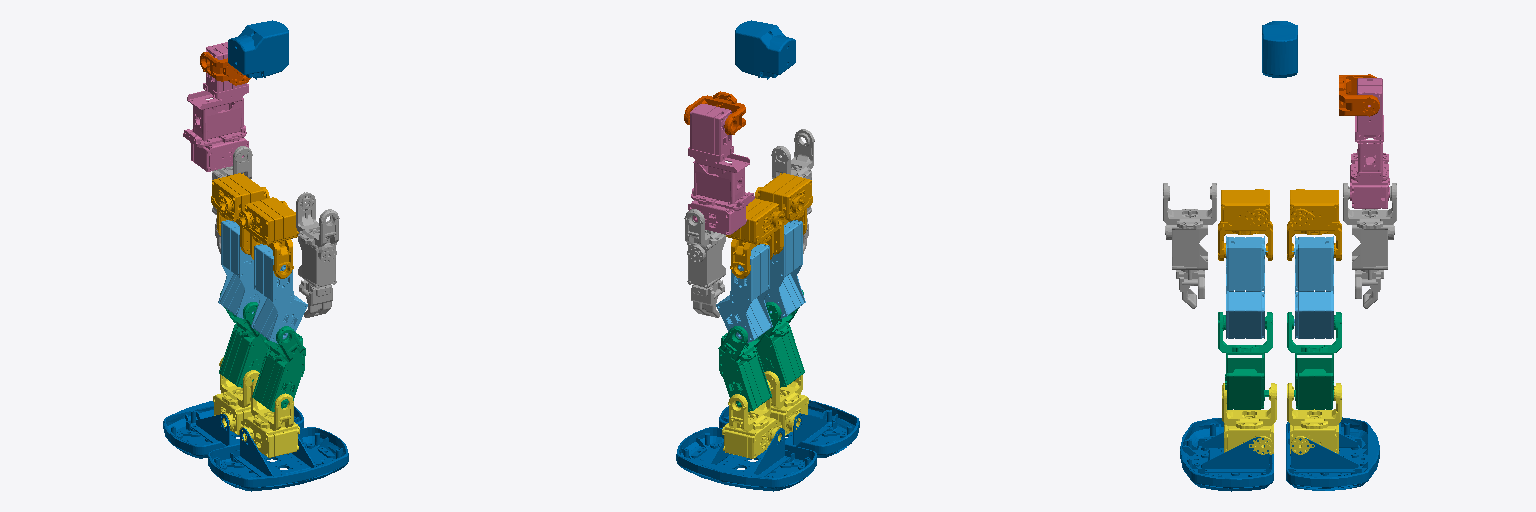
The robot description file, URDF, robot "khr":
<?xml version="1.0"?>
<robot name="khr"
       xmlns:xi="http://www.w3.org/2001/XInclude">
  <link name="HIP_VIRTUAL_LINK">
    <inertial>
      <mass value="1e-07" />
      <origin xyz="0 0 0" rpy="0 0 0"/>
      <inertia ixx="1e-11" ixy="0" ixz="0" iyy="1e-11" iyz="0" izz="1e-11"/>
    </inertial>
  </link>
  <link name="SPINE_VIRTUAL_LINK">
    <inertial>
      <mass value="1e-07" />
      <origin xyz="0 0 0" rpy="0 0 0"/>
      <inertia ixx="1e-11" ixy="0" ixz="0" iyy="1e-11" iyz="0" izz="1e-11"/>
    </inertial>
  </link>
  <link name="TORSO_VIRTUAL_LINK">
    <inertial>
      <mass value="1e-07" />
      <origin xyz="0 0 0" rpy="0 0 0"/>
      <inertia ixx="1e-11" ixy="0" ixz="0" iyy="1e-11" iyz="0" izz="1e-11"/>
    </inertial>
  </link>
  <link name="BODY">
    <visual>
      <origin xyz="0 0 0" rpy="0 -0 0"/>
      <geometry>
        <mesh filename="mesh/BODY_mesh.stl" scale="1 1 1" />
      </geometry>
    </visual>
    <collision>
      <origin xyz="0 0 0" rpy="0 -0 0"/>
      <geometry>
        <mesh filename="mesh/BODY_mesh.stl" scale="1 1 1" />
      </geometry>
    </collision>
    <inertial>
      <mass value="0.3375" />
      <origin xyz="-0.025246 0 0.017693" rpy="0 -0 0"/>
      <inertia ixx="0.000533" ixy="-9.37957e-07" ixz="3.74586e-05" iyy="0.000507" iyz="8.98787e-07" izz="0.000337"/>
    </inertial>
  </link>
  <link name="HEAD_LINK0">
    <visual>
      <origin xyz="0 0 0.0644" rpy="0 -0 0"/>
      <geometry>
        <mesh filename="mesh/HEAD_LINK0_mesh.stl" scale="1 1 1" />
      </geometry>
    </visual>
    <collision>
      <origin xyz="0 0 0.0644" rpy="0 -0 0"/>
      <geometry>
        <mesh filename="mesh/HEAD_LINK0_mesh.stl" scale="1 1 1" />
      </geometry>
    </collision>
    <inertial>
      <mass value="0.0149" />
      <origin xyz="0.002048 0 0.020747" rpy="0 -0 0"/>
      <inertia ixx="1.89498e-06" ixy="1.75751e-08" ixz="-5.79694e-08" iyy="3.27018e-06" iyz="1.69379e-08" izz="2.44034e-06"/>
    </inertial>
  </link>
  <link name="LARM_LINK0">
    <visual>
      <origin xyz="0.0115 0.049 0.0474" rpy="0 -0 0"/>
      <geometry>
        <mesh filename="mesh/LARM_LINK0_mesh.stl" scale="1 1 1" />
      </geometry>
    </visual>
    <collision>
      <origin xyz="0.0115 0.049 0.0474" rpy="0 -0 0"/>
      <geometry>
        <mesh filename="mesh/LARM_LINK0_mesh.stl" scale="1 1 1" />
      </geometry>
    </collision>
    <inertial>
      <mass value="0.0153" />
      <origin xyz="0 0.014576 0" rpy="0 -0 0"/>
      <inertia ixx="1.64238e-06" ixy="-4.39899e-09" ixz="2.13134e-08" iyy="2.26922e-06" iyz="-3.47822e-09" izz="2.75336e-06"/>
    </inertial>
  </link>
  <link name="LARM_LINK1">
    <visual>
      <origin xyz="0.01975 0.0255 0" rpy="0 -0 0"/>
      <geometry>
        <mesh filename="mesh/LARM_LINK1_mesh.stl" scale="1 1 1" />
      </geometry>
    </visual>
    <collision>
      <origin xyz="0.01975 0.0255 0" rpy="0 -0 0"/>
      <geometry>
        <mesh filename="mesh/LARM_LINK1_mesh.stl" scale="1 1 1" />
      </geometry>
    </collision>
    <inertial>
      <mass value="0.1091" />
      <origin xyz="-0.02697 -0.000148 -0.050609" rpy="0 -0 0"/>
      <inertia ixx="8.95637e-05" ixy="1.2006e-08" ixz="-3.45189e-06" iyy="0.000102" iyz="-4.05043e-07" izz="2.50555e-05"/>
    </inertial>
  </link>
  <link name="LARM_LINK2">
    <visual>
      <origin xyz="-0.0153 -0.0197 -0.0875" rpy="0 -0 0"/>
      <geometry>
        <mesh filename="mesh/LARM_LINK2_mesh.stl" scale="1 1 1" />
      </geometry>
    </visual>
    <collision>
      <origin xyz="-0.0153 -0.0197 -0.0875" rpy="0 -0 0"/>
      <geometry>
        <mesh filename="mesh/LARM_LINK2_mesh.stl" scale="1 1 1" />
      </geometry>
    </collision>
    <inertial>
      <mass value="0.0315" />
      <origin xyz="0.000525 0.019115 -0.039067" rpy="0 -0 0"/>
      <inertia ixx="2.0635e-05" ixy="6.63534e-08" ixz="1.858e-07" iyy="1.94974e-05" iyz="-1.80473e-07" izz="3.50615e-06"/>
    </inertial>
  </link>
  <link name="LLEG_LINK0">
    <visual>
      <origin xyz="0.018517 0.017 -0.06265" rpy="0 -0 0"/>
      <geometry>
        <mesh filename="mesh/LLEG_LINK0_mesh.stl" scale="1 1 1" />
      </geometry>
    </visual>
    <collision>
      <origin xyz="0.018517 0.017 -0.06265" rpy="0 -0 0"/>
      <geometry>
        <mesh filename="mesh/LLEG_LINK0_mesh.stl" scale="1 1 1" />
      </geometry>
    </collision>
    <inertial>
      <mass value="0.0699" />
      <origin xyz="-0.021734 0.011506 -0.014091" rpy="0 -0 0"/>
      <inertia ixx="1.6919e-05" ixy="-8.67462e-08" ixz="-1.21724e-08" iyy="1.58948e-05" iyz="-5.7174e-07" izz="9.6286e-06"/>
    </inertial>
  </link>
  <link name="LLEG_LINK1">
    <visual>
      <origin xyz="-0.0192 -0.00825 -0.0385" rpy="0 -0 0"/>
      <geometry>
        <mesh filename="mesh/LLEG_LINK1_mesh.stl" scale="1 1 1" />
      </geometry>
    </visual>
    <collision>
      <origin xyz="-0.0192 -0.00825 -0.0385" rpy="0 -0 0"/>
      <geometry>
        <mesh filename="mesh/LLEG_LINK1_mesh.stl" scale="1 1 1" />
      </geometry>
    </collision>
    <inertial>
      <mass value="0.1031" />
      <origin xyz="0.002871 0.018978 -0.033258" rpy="0 -0 0"/>
      <inertia ixx="5.51675e-05" ixy="-4.33138e-07" ixz="1.60787e-07" iyy="5.51001e-05" iyz="2.79276e-08" izz="1.42107e-05"/>
    </inertial>
  </link>
  <link name="LLEG_LINK2">
    <visual>
      <origin xyz="0 0 -0.065" rpy="0 -0 0"/>
      <geometry>
        <mesh filename="mesh/LLEG_LINK2_mesh.stl" scale="1 1 1" />
      </geometry>
    </visual>
    <collision>
      <origin xyz="0 0 -0.065" rpy="0 -0 0"/>
      <geometry>
        <mesh filename="mesh/LLEG_LINK2_mesh.stl" scale="1 1 1" />
      </geometry>
    </collision>
    <inertial>
      <mass value="0.0694" />
      <origin xyz="0.003613 0.016674 -0.031461" rpy="0 -0 0"/>
      <inertia ixx="3.675e-05" ixy="-1.69837e-07" ixz="-8.70062e-07" iyy="3.37577e-05" iyz="-1.30046e-07" izz="1.29244e-05"/>
    </inertial>
  </link>
  <link name="LLEG_LINK3">
    <visual>
      <origin xyz="0 0 -0.065" rpy="0 -0 0"/>
      <geometry>
        <mesh filename="mesh/LLEG_LINK3_mesh.stl" scale="1 1 1" />
      </geometry>
    </visual>
    <collision>
      <origin xyz="0 0 -0.065" rpy="0 -0 0"/>
      <geometry>
        <mesh filename="mesh/LLEG_LINK3_mesh.stl" scale="1 1 1" />
      </geometry>
    </collision>
    <inertial>
      <mass value="0.0691" />
      <origin xyz="-0.000386 0.016666 -0.024369" rpy="0 -0 0"/>
      <inertia ixx="1.89725e-05" ixy="-5.30464e-08" ixz="-3.88994e-07" iyy="1.73695e-05" iyz="-1.9347e-08" izz="1.22922e-05"/>
    </inertial>
  </link>
  <link name="LLEG_LINK4">
    <visual>
      <origin xyz="0.019683 0.00825 -0.0385" rpy="0 -0 0"/>
      <geometry>
        <mesh filename="mesh/LLEG_LINK4_mesh.stl" scale="1 1 1" />
      </geometry>
    </visual>
    <collision>
      <origin xyz="0.019683 0.00825 -0.0385" rpy="0 -0 0"/>
      <geometry>
        <mesh filename="mesh/LLEG_LINK4_mesh.stl" scale="1 1 1" />
      </geometry>
    </collision>
    <inertial>
      <mass value="0.0419" />
      <origin xyz="-0.020862 0.020902 -0.013459" rpy="0 -0 0"/>
      <inertia ixx="1.31439e-05" ixy="-3.43305e-09" ixz="-2.13264e-07" iyy="2.75629e-05" iyz="3.99808e-07" izz="3.78492e-05"/>
    </inertial>
  </link>
  <link name="RARM_LINK0">
    <visual>
      <origin xyz="0.0115 -0.049 0.0474" rpy="0 -0 0"/>
      <geometry>
        <mesh filename="mesh/RARM_LINK0_mesh.stl" scale="1 1 1" />
      </geometry>
    </visual>
    <collision>
      <origin xyz="0.0115 -0.049 0.0474" rpy="0 -0 0"/>
      <geometry>
        <mesh filename="mesh/RARM_LINK0_mesh.stl" scale="1 1 1" />
      </geometry>
    </collision>
    <inertial>
      <mass value="0.0153" />
      <origin xyz="0 -0.014576 0" rpy="0 -0 0"/>
      <inertia ixx="1.6763e-06" ixy="-1.67661e-08" ixz="-9.95332e-09" iyy="2.26307e-06" iyz="1.99264e-09" izz="2.74554e-06"/>
    </inertial>
  </link>
  <link name="RARM_LINK1">
    <visual>
      <origin xyz="0.01975 -0.0255 0" rpy="0 -0 0"/>
      <geometry>
        <mesh filename="mesh/RARM_LINK1_mesh.stl" scale="1 1 1" />
      </geometry>
    </visual>
    <collision>
      <origin xyz="0.01975 -0.0255 0" rpy="0 -0 0"/>
      <geometry>
        <mesh filename="mesh/RARM_LINK1_mesh.stl" scale="1 1 1" />
      </geometry>
    </collision>
    <inertial>
      <mass value="0.1091" />
      <origin xyz="-0.02697 0.000148 -0.050609" rpy="0 -0 0"/>
      <inertia ixx="8.20245e-05" ixy="1.68637e-07" ixz="-2.81184e-06" iyy="9.30071e-05" iyz="1.00412e-06" izz="2.32264e-05"/>
    </inertial>
  </link>
  <link name="RARM_LINK2">
    <visual>
      <origin xyz="-0.0153 0.0197 -0.0875" rpy="0 -0 0"/>
      <geometry>
        <mesh filename="mesh/RARM_LINK2_mesh.stl" scale="1 1 1" />
      </geometry>
    </visual>
    <collision>
      <origin xyz="-0.0153 0.0197 -0.0875" rpy="0 -0 0"/>
      <geometry>
        <mesh filename="mesh/RARM_LINK2_mesh.stl" scale="1 1 1" />
      </geometry>
    </collision>
    <inertial>
      <mass value="0.0315" />
      <origin xyz="0.000525 -0.019115 -0.039067" rpy="0 -0 0"/>
      <inertia ixx="2.01586e-05" ixy="-1.18985e-07" ixz="7.55844e-08" iyy="1.8365e-05" iyz="5.07189e-07" izz="4.02757e-06"/>
    </inertial>
  </link>
  <link name="RLEG_LINK0">
    <visual>
      <origin xyz="0.018517 -0.017 -0.06265" rpy="0 -0 0"/>
      <geometry>
        <mesh filename="mesh/RLEG_LINK0_mesh.stl" scale="1 1 1" />
      </geometry>
    </visual>
    <collision>
      <origin xyz="0.018517 -0.017 -0.06265" rpy="0 -0 0"/>
      <geometry>
        <mesh filename="mesh/RLEG_LINK0_mesh.stl" scale="1 1 1" />
      </geometry>
    </collision>
    <inertial>
      <mass value="0.0699" />
      <origin xyz="-0.021734 -0.011506 -0.014091" rpy="0 -0 0"/>
      <inertia ixx="1.67706e-05" ixy="3.09063e-07" ixz="-9.06368e-08" iyy="1.59351e-05" iyz="-1.85881e-07" izz="8.90141e-06"/>
    </inertial>
  </link>
  <link name="RLEG_LINK1">
    <visual>
      <origin xyz="-0.0192 0.00825 -0.0385" rpy="0 -0 0"/>
      <geometry>
        <mesh filename="mesh/RLEG_LINK1_mesh.stl" scale="1 1 1" />
      </geometry>
    </visual>
    <collision>
      <origin xyz="-0.0192 0.00825 -0.0385" rpy="0 -0 0"/>
      <geometry>
        <mesh filename="mesh/RLEG_LINK1_mesh.stl" scale="1 1 1" />
      </geometry>
    </collision>
    <inertial>
      <mass value="0.1031" />
      <origin xyz="0.002871 -0.018978 -0.033258" rpy="0 -0 0"/>
      <inertia ixx="5.53682e-05" ixy="1.79727e-07" ixz="1.50432e-07" iyy="5.49684e-05" iyz="-1.26323e-07" izz="1.5723e-05"/>
    </inertial>
  </link>
  <link name="RLEG_LINK2">
    <visual>
      <origin xyz="0 0 -0.065" rpy="0 -0 0"/>
      <geometry>
        <mesh filename="mesh/RLEG_LINK2_mesh.stl" scale="1 1 1" />
      </geometry>
    </visual>
    <collision>
      <origin xyz="0 0 -0.065" rpy="0 -0 0"/>
      <geometry>
        <mesh filename="mesh/RLEG_LINK2_mesh.stl" scale="1 1 1" />
      </geometry>
    </collision>
    <inertial>
      <mass value="0.0694" />
      <origin xyz="0.003613 -0.016674 -0.031461" rpy="0 -0 0"/>
      <inertia ixx="3.88163e-05" ixy="-4.03699e-09" ixz="-8.68336e-07" iyy="3.51562e-05" iyz="-8.44442e-08" izz="1.3848e-05"/>
    </inertial>
  </link>
  <link name="RLEG_LINK3">
    <visual>
      <origin xyz="0 0 -0.065" rpy="0 -0 0"/>
      <geometry>
        <mesh filename="mesh/RLEG_LINK3_mesh.stl" scale="1 1 1" />
      </geometry>
    </visual>
    <collision>
      <origin xyz="0 0 -0.065" rpy="0 -0 0"/>
      <geometry>
        <mesh filename="mesh/RLEG_LINK3_mesh.stl" scale="1 1 1" />
      </geometry>
    </collision>
    <inertial>
      <mass value="0.0691" />
      <origin xyz="-0.000386 -0.016666 -0.024369" rpy="0 -0 0"/>
      <inertia ixx="2.07911e-05" ixy="-1.95431e-07" ixz="9.83503e-08" iyy="1.81828e-05" iyz="8.03039e-08" izz="1.18297e-05"/>
    </inertial>
  </link>
  <link name="RLEG_LINK4">
    <visual>
      <origin xyz="0.019683 -0.00825 -0.0385" rpy="0 -0 0"/>
      <geometry>
        <mesh filename="mesh/RLEG_LINK4_mesh.stl" scale="1 1 1" />
      </geometry>
    </visual>
    <collision>
      <origin xyz="0.019683 -0.00825 -0.0385" rpy="0 -0 0"/>
      <geometry>
        <mesh filename="mesh/RLEG_LINK4_mesh.stl" scale="1 1 1" />
      </geometry>
    </collision>
    <inertial>
      <mass value="0.0419" />
      <origin xyz="-0.020862 -0.020902 -0.013459" rpy="0 -0 0"/>
      <inertia ixx="1.24417e-05" ixy="-6.00499e-07" ixz="1.04282e-07" iyy="3.00021e-05" iyz="-5.79267e-07" izz="3.92743e-05"/>
    </inertial>
  </link>
  <joint name="HIP_VIRTUAL_JOINT" type="fixed">
    <parent link="HIP_VIRTUAL_LINK"/>
    <child link="SPINE_VIRTUAL_LINK"/>
    <origin rpy="0.0 0.0 0.0" xyz="0.0 0.0 0.0"/>
  </joint>
  <joint name="SPINE_VIRTUAL_JOINT" type="fixed">
    <parent link="HIP_VIRTUAL_LINK"/>
    <child link="BODY"/>
      <origin rpy="0.0 0.0 0.0" xyz="0.0 0.0 0.06265"/>
  </joint>
  <joint name="TORSO_VIRTUAL_JOINT" type="fixed">
    <parent link="BODY"/>
    <child link="TORSO_VIRTUAL_LINK"/>
      <origin rpy="0.0 0.0 0.0" xyz="0.0 0.0 0.0474"/>
  </joint>
  <joint name="HEAD_JOINT0" type="fixed">
    <parent link="TORSO_VIRTUAL_LINK"/>
    <child  link="HEAD_LINK0"/>
    <origin xyz="0 0 0.0170" rpy="0 -0 0 "/>
    <axis   xyz="0 0 1"/>
    <limit lower="-1.5708" upper="1.5708" effort="0.005" velocity="1.0" />
    <dynamics damping="0.2" friction="0" />
  </joint>
  <joint name="LARM_JOINT0" type="revolute">
    <parent link="TORSO_VIRTUAL_LINK"/>
    <child  link="LARM_LINK0"/>
    <origin xyz="0.0115 0.049 0.0" rpy="0 -0 0 "/>
    <axis   xyz="0 1 0"/>
    <limit lower="-3.1416" upper="0.5236" effort="0.005" velocity="1.0" />
    <dynamics damping="0.2" friction="0" />
  </joint>
  <joint name="LARM_JOINT1" type="revolute">
    <parent link="LARM_LINK0"/>
    <child  link="LARM_LINK1"/>
    <origin xyz="0.01975 0.0255 0" rpy="0 -0 0 "/>
    <axis   xyz="1 0 0"/>
    <limit lower="-0.5236" upper="3.1416" effort="0.005" velocity="1.0" />
    <dynamics damping="0.2" friction="0" />
  </joint>
  <joint name="LARM_JOINT2" type="revolute">
    <parent link="LARM_LINK1"/>
    <child  link="LARM_LINK2"/>
    <origin xyz="-0.0153 -0.0197 -0.0875" rpy="0 -0 0 "/>
    <axis   xyz="0 1 0"/>
    <limit lower="-2.0944" upper="0.0" effort="0.005" velocity="1.0" />
    <dynamics damping="0.2" friction="0" />
  </joint>
  <joint name="LLEG_JOINT0" type="revolute">
    <parent link="HIP_VIRTUAL_LINK"/>
    <child  link="LLEG_LINK0"/>
    <origin xyz="0.018517 0.017 0.0" rpy="0 -0 0 "/>
    <axis   xyz="1 0 0"/>
    <limit lower="-0.2618" upper="0.5236" effort="0.005" velocity="1.0" />
    <dynamics damping="0.2" friction="0" />
  </joint>
  <joint name="LLEG_JOINT1" type="revolute">
    <parent link="LLEG_LINK0"/>
    <child  link="LLEG_LINK1"/>
    <origin xyz="-0.0192 -0.00825 -0.0385" rpy="0 -0 0 "/>
    <axis   xyz="0 1 0"/>
    <limit lower="-1.5708" upper="1.5708" effort="0.005" velocity="1.0" />
    <dynamics damping="0.2" friction="0" />
  </joint>
  <joint name="LLEG_JOINT2" type="revolute">
    <parent link="LLEG_LINK1"/>
    <child  link="LLEG_LINK2"/>
    <origin xyz="0 0 -0.065" rpy="0 -0 0 "/>
    <axis   xyz="0 1 0"/>
    <limit lower="0.0" upper="2.6180" effort="0.005" velocity="1.0" />
    <dynamics damping="0.2" friction="0" />
  </joint>
  <joint name="LLEG_JOINT3" type="revolute">
    <parent link="LLEG_LINK2"/>
    <child  link="LLEG_LINK3"/>
    <origin xyz="0 0 -0.065" rpy="0 -0 0 "/>
    <axis   xyz="0 1 0"/>
    <limit lower="0.0" upper="1.5708" effort="0.005" velocity="1.0" />
    <dynamics damping="0.2" friction="0" />
  </joint>
  <joint name="LLEG_JOINT4" type="revolute">
    <parent link="LLEG_LINK3"/>
    <child  link="LLEG_LINK4"/>
    <origin xyz="0.019683 0.00825 -0.0385" rpy="0 -0 0 "/>
    <axis   xyz="1 0 0"/>
    <limit lower="-0.5236" upper="0.0" effort="0.005" velocity="1.0" />
    <dynamics damping="0.2" friction="0" />
  </joint>
  <joint name="RARM_JOINT0" type="revolute">
    <parent link="TORSO_VIRTUAL_LINK"/>
    <child  link="RARM_LINK0"/>
    <origin xyz="0.0115 -0.049 0.0" rpy="0 -0 0 "/>
    <axis   xyz="0 1 0"/>
    <limit lower="-3.1416" upper="0.5236" effort="0.005" velocity="1.0" />
    <dynamics damping="0.2" friction="0" />
  </joint>
  <joint name="RARM_JOINT1" type="revolute">
    <parent link="RARM_LINK0"/>
    <child  link="RARM_LINK1"/>
    <origin xyz="0.01975 -0.0255 0" rpy="0 -0 0 "/>
    <axis   xyz="1 0 0"/>
    <limit lower="-3.1416" upper="0.5236" effort="0.005" velocity="1.0" />
    <dynamics damping="0.2" friction="0" />
  </joint>
  <joint name="RARM_JOINT2" type="revolute">
    <parent link="RARM_LINK1"/>
    <child  link="RARM_LINK2"/>
    <origin xyz="-0.0153 0.0197 -0.0875" rpy="0 -0 0 "/>
    <axis   xyz="0 1 0"/>
    <limit lower="-2.0944" upper="0.0" effort="0.005" velocity="1.0" />
    <dynamics damping="0.2" friction="0" />
  </joint>
  <joint name="RLEG_JOINT0" type="revolute">
    <parent link="HIP_VIRTUAL_LINK"/>
    <child  link="RLEG_LINK0"/>
    <origin xyz="0.018517 -0.017 0.0" rpy="0 -0 0 "/>
    <axis   xyz="1 0 0"/>
    <limit lower="-0.5236" upper="0.2518" effort="0.005" velocity="1.0" />
    <dynamics damping="0.2" friction="0" />
  </joint>
  <joint name="RLEG_JOINT1" type="revolute">
    <parent link="RLEG_LINK0"/>
    <child  link="RLEG_LINK1"/>
    <origin xyz="-0.0192 0.00825 -0.0385" rpy="0 -0 0 "/>
    <axis   xyz="0 1 0"/>
    <limit lower="-1.5708" upper="1.5708" effort="0.005" velocity="1.0" />
    <dynamics damping="0.2" friction="0" />
  </joint>
  <joint name="RLEG_JOINT2" type="revolute">
    <parent link="RLEG_LINK1"/>
    <child  link="RLEG_LINK2"/>
    <origin xyz="0 0 -0.065" rpy="0 -0 0 "/>
    <axis   xyz="0 1 0"/>
    <limit lower="0.0" upper="2.6108" effort="0.005" velocity="1.0" />
    <dynamics damping="0.2" friction="0" />
  </joint>
  <joint name="RLEG_JOINT3" type="revolute">
    <parent link="RLEG_LINK2"/>
    <child  link="RLEG_LINK3"/>
    <origin xyz="0 0 -0.065" rpy="0 -0 0 "/>
    <axis   xyz="0 1 0"/>
    <limit lower="0.0" upper="1.5708" effort="0.005" velocity="1.0" />
    <dynamics damping="0.2" friction="0" />
  </joint>
  <joint name="RLEG_JOINT4" type="revolute">
    <parent link="RLEG_LINK3"/>
    <child  link="RLEG_LINK4"/>
    <origin xyz="0.019683 -0.00825 -0.0385" rpy="0 -0 0 "/>
    <axis   xyz="1 0 0"/>
    <limit lower="0.0" upper="0.5236" effort="0.005" velocity="1.0" />
    <dynamics damping="0.2" friction="0" />
  </joint>

  <!-- Virtual Foot Joint -->
  <joint name="LHAND_VIRTUAL_JOINT" type="fixed">
    <parent link="LARM_LINK2"/>
    <child link="LHAND_VIRTUAL_LINK"/>
    <origin rpy="0.0 0.0 0.0" xyz="0.0 0.02 -0.08"/>
  </joint>
  <joint name="RHAND_VIRTUAL_JOINT" type="fixed">
    <parent link="RARM_LINK2"/>
    <child link="RHAND_VIRTUAL_LINK"/>
    <origin rpy="0.0 0.0 0.0" xyz="0.0 -0.02 -0.08"/>
  </joint>
  <joint name="LARM_VIRTUAL_JOINT1" type="fixed">
    <parent link="LARM_LINK1"/>
    <child link="LARM_VIRTUAL_LINK1"/>
    <origin rpy="0.0 0.0 0.0" xyz="-0.02 0.0 0.0"/>
  </joint>
  <joint name="RARM_VIRTUAL_JOINT1" type="fixed">
    <parent link="RARM_LINK1"/>
    <child link="RARM_VIRTUAL_LINK1"/>
    <origin rpy="0.0 0.0 0.0" xyz="-0.02 0.0 0.0"/>
  </joint>
  <joint name="LARM_VIRTUAL_JOINT2" type="fixed">
    <parent link="LARM_LINK2"/>
    <child link="LARM_VIRTUAL_LINK2"/>
    <origin rpy="0.0 0.0 0.0" xyz="0.0 0.02 0.0"/>
  </joint>
  <joint name="RARM_VIRTUAL_JOINT2" type="fixed">
    <parent link="RARM_LINK2"/>
    <child link="RARM_VIRTUAL_LINK2"/>
    <origin rpy="0.0 0.0 0.0" xyz="0.0 -0.02 0.0"/>
  </joint>
  <joint name="LLEG_VIRTUAL_JOINT1" type="fixed">
    <parent link="LLEG_LINK1"/>
    <child link="LLEG_VIRTUAL_LINK1"/>
    <origin rpy="0.0 0.0 0.0" xyz="0.0 0.02 0.0"/>
  </joint>
  <joint name="RLEG_VIRTUAL_JOINT1" type="fixed">
    <parent link="RLEG_LINK1"/>
    <child link="RLEG_VIRTUAL_LINK1"/>
    <origin rpy="0.0 0.0 0.0" xyz="0.0 -0.02 0.0"/>
  </joint>
  <joint name="LLEG_VIRTUAL_JOINT2" type="fixed">
    <parent link="LLEG_LINK2"/>
    <child link="LLEG_VIRTUAL_LINK2"/>
    <origin rpy="0.0 0.0 0.0" xyz="0.0 0.02 0.0"/>
  </joint>
  <joint name="RLEG_VIRTUAL_JOINT2" type="fixed">
    <parent link="RLEG_LINK2"/>
    <child link="RLEG_VIRTUAL_LINK2"/>
    <origin rpy="0.0 0.0 0.0" xyz="0.0 -0.02 0.0"/>
  </joint>
  <joint name="LLEG_VIRTUAL_JOINT3" type="fixed">
    <parent link="LLEG_LINK3"/>
    <child link="LLEG_VIRTUAL_LINK3"/>
    <origin rpy="0.0 0.0 0.0" xyz="0.0 0.02 0.0"/>
  </joint>
  <joint name="RLEG_VIRTUAL_JOINT3" type="fixed">
    <parent link="RLEG_LINK3"/>
    <child link="RLEG_VIRTUAL_LINK3"/>
    <origin rpy="0.0 0.0 0.0" xyz="0.0 -0.02 0.0"/>
  </joint>

  <!-- Virtual Foot Link for retargeting motion -->
  <link name="LHAND_VIRTUAL_LINK">
    <inertial>
      <mass value="1e-07" />
      <origin xyz="0 0 0" rpy="0 0 0"/>
      <inertia ixx="1e-11" ixy="0" ixz="0" iyy="1e-11" iyz="0" izz="1e-11"/>
    </inertial>
  </link>
  <link name="RHAND_VIRTUAL_LINK">
    <inertial>
      <mass value="1e-07" />
      <origin xyz="0 0 0" rpy="0 0 0"/>
      <inertia ixx="1e-11" ixy="0" ixz="0" iyy="1e-11" iyz="0" izz="1e-11"/>
    </inertial>
  </link>
  <link name="LARM_VIRTUAL_LINK1">
    <inertial>
      <mass value="1e-07" />
      <origin xyz="0 0 0" rpy="0 0 0"/>
      <inertia ixx="1e-11" ixy="0" ixz="0" iyy="1e-11" iyz="0" izz="1e-11"/>
    </inertial>
  </link>
  <link name="RARM_VIRTUAL_LINK1">
    <inertial>
      <mass value="1e-07" />
      <origin xyz="0 0 0" rpy="0 0 0"/>
      <inertia ixx="1e-11" ixy="0" ixz="0" iyy="1e-11" iyz="0" izz="1e-11"/>
    </inertial>
  </link>
  <link name="LARM_VIRTUAL_LINK2">
    <inertial>
      <mass value="1e-07" />
      <origin xyz="0 0 0" rpy="0 0 0"/>
      <inertia ixx="1e-11" ixy="0" ixz="0" iyy="1e-11" iyz="0" izz="1e-11"/>
    </inertial>
  </link>
  <link name="RARM_VIRTUAL_LINK2">
    <inertial>
      <mass value="1e-07" />
      <origin xyz="0 0 0" rpy="0 0 0"/>
      <inertia ixx="1e-11" ixy="0" ixz="0" iyy="1e-11" iyz="0" izz="1e-11"/>
    </inertial>
  </link>
  <link name="LLEG_VIRTUAL_LINK1">
    <inertial>
      <mass value="1e-07" />
      <origin xyz="0 0 0" rpy="0 0 0"/>
      <inertia ixx="1e-11" ixy="0" ixz="0" iyy="1e-11" iyz="0" izz="1e-11"/>
    </inertial>
  </link>
  <link name="RLEG_VIRTUAL_LINK1">
    <inertial>
      <mass value="1e-07" />
      <origin xyz="0 0 0" rpy="0 0 0"/>
      <inertia ixx="1e-11" ixy="0" ixz="0" iyy="1e-11" iyz="0" izz="1e-11"/>
    </inertial>
  </link>
  <link name="LLEG_VIRTUAL_LINK2">
    <inertial>
      <mass value="1e-07" />
      <origin xyz="0 0 0" rpy="0 0 0"/>
      <inertia ixx="1e-11" ixy="0" ixz="0" iyy="1e-11" iyz="0" izz="1e-11"/>
    </inertial>
  </link>
  <link name="RLEG_VIRTUAL_LINK2">
    <inertial>
      <mass value="1e-07" />
      <origin xyz="0 0 0" rpy="0 0 0"/>
      <inertia ixx="1e-11" ixy="0" ixz="0" iyy="1e-11" iyz="0" izz="1e-11"/>
    </inertial>
  </link>
  <link name="LLEG_VIRTUAL_LINK3">
    <inertial>
      <mass value="1e-07" />
      <origin xyz="0 0 0" rpy="0 0 0"/>
      <inertia ixx="1e-11" ixy="0" ixz="0" iyy="1e-11" iyz="0" izz="1e-11"/>
    </inertial>
  </link>
  <link name="RLEG_VIRTUAL_LINK3">
    <inertial>
      <mass value="1e-07" />
      <origin xyz="0 0 0" rpy="0 0 0"/>
      <inertia ixx="1e-11" ixy="0" ixz="0" iyy="1e-11" iyz="0" izz="1e-11"/>
    </inertial>
  </link>
</robot>

--- What the picture shows (computed from the rendered views, not written in the file) ---
Views: 3 orthographic renders of the robot side by side, from view 1: azimuth 30°, elevation 25°; view 2: azimuth 150°, elevation 25°; view 3: azimuth 270°, elevation 25°.
Model khr with 33 links and 32 joints (16 revolute, 16 fixed), rooted at HIP_VIRTUAL_LINK, posed every joint at zero.
Links seen in each view (by area): view 1: RLEG_LINK4, LARM_LINK1, RARM_LINK2, RLEG_LINK1, LLEG_LINK4, RLEG_LINK0, RLEG_LINK2, HEAD_LINK0, RLEG_LINK3, LLEG_LINK1, LLEG_LINK2, LLEG_LINK0 (+3 smaller); view 2: LARM_LINK1, LLEG_LINK4, LARM_LINK2, LLEG_LINK1, RLEG_LINK4, LLEG_LINK2, HEAD_LINK0, LLEG_LINK3, RLEG_LINK1, LLEG_LINK0, RLEG_LINK2, RLEG_LINK0 (+3 smaller); view 3: RLEG_LINK4, LLEG_LINK4, LLEG_LINK1, RLEG_LINK1, LARM_LINK1, LARM_LINK2, RARM_LINK2, RLEG_LINK2, LLEG_LINK2, LLEG_LINK0, RLEG_LINK0, LLEG_LINK3 (+3 smaller).
Boxes of the visible links, x1,y1,x2,y2 form: RLEG_LINK4: (208, 427, 348, 491); LARM_LINK1: (183, 42, 248, 171); RARM_LINK2: (296, 192, 339, 317); RLEG_LINK1: (251, 244, 307, 343); LLEG_LINK4: (163, 401, 303, 458); RLEG_LINK0: (239, 197, 298, 278); RLEG_LINK2: (252, 315, 305, 411); HEAD_LINK0: (228, 20, 288, 79); RLEG_LINK3: (239, 377, 299, 457); LLEG_LINK1: (218, 220, 259, 318); LLEG_LINK2: (219, 291, 267, 387); LLEG_LINK0: (211, 173, 269, 254); LARM_LINK1: (688, 104, 754, 234); LLEG_LINK4: (676, 427, 816, 491); LARM_LINK2: (684, 209, 725, 317); LLEG_LINK1: (716, 244, 772, 342); RLEG_LINK4: (719, 400, 859, 457); LLEG_LINK2: (718, 315, 771, 411); HEAD_LINK0: (735, 20, 795, 79); LLEG_LINK3: (722, 380, 781, 458); RLEG_LINK1: (764, 220, 805, 318); LLEG_LINK0: (726, 198, 784, 278); RLEG_LINK2: (755, 290, 804, 387); RLEG_LINK0: (755, 173, 812, 254); RLEG_LINK4: (1180, 418, 1273, 491); LLEG_LINK4: (1286, 417, 1379, 490); LLEG_LINK1: (1292, 236, 1333, 338); RLEG_LINK1: (1226, 236, 1267, 338); LARM_LINK1: (1350, 78, 1389, 208); LARM_LINK2: (1343, 183, 1396, 308); RARM_LINK2: (1163, 183, 1216, 308); RLEG_LINK2: (1218, 312, 1272, 409); LLEG_LINK2: (1287, 312, 1341, 409); LLEG_LINK0: (1287, 189, 1341, 260); RLEG_LINK0: (1218, 189, 1272, 260); LLEG_LINK3: (1287, 383, 1341, 454).
Size in the robot's own frame: 0.1228 by 0.1946 by 0.4011 metres.
15 mesh visuals loaded from 18 distinct referenced files (15 binary STL); not drawn: 3 (reference not matched to a file when rendering).